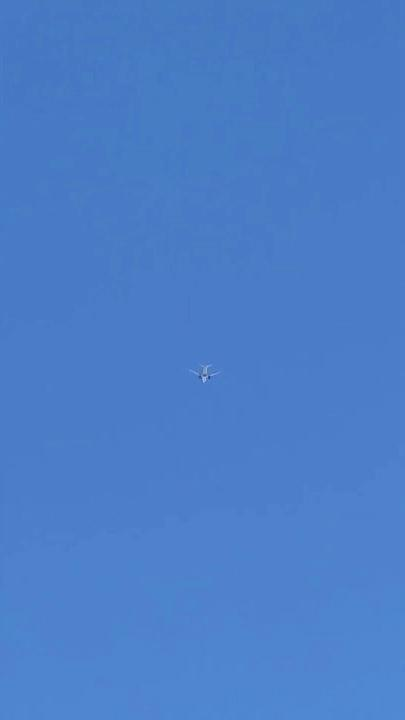Plane: (184, 352, 224, 394)
